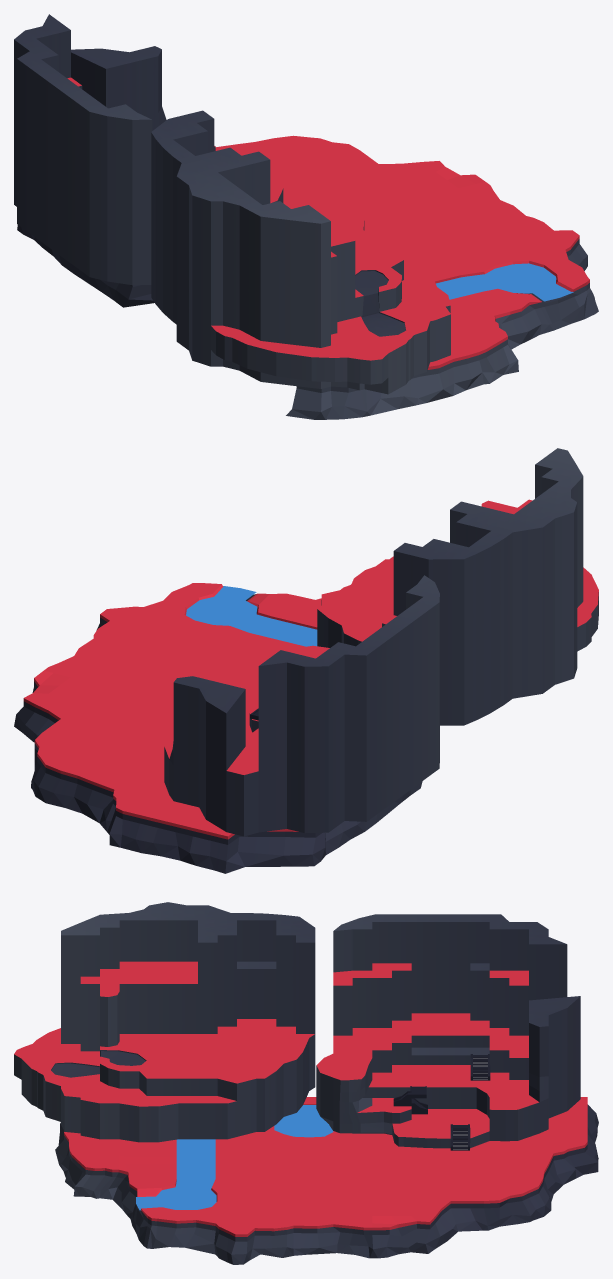
File: Terrain New TEST.fbx
3 renders of one model, top to bottom at view 1: azimuth 30°, elevation 25°; view 2: azimuth 150°, elevation 25°; view 3: azimuth 270°, elevation 25°, orthographic. The views are drawn at different scales.
Parts seen in each view (by area): view 1: Plane.016, Plane.010, Plane.011, Plane.022; view 2: Plane.011, Plane.010, Plane.016, Plane.022; view 3: Plane.016, Plane.011, Plane.010, Plane.022, Plane.023.
Part boxes in pixels (box(x1,y1,x2,y2)): Plane.016: box(151, 110, 450, 394); Plane.010: box(17, 135, 598, 419); Plane.011: box(14, 14, 283, 285); Plane.022: box(436, 263, 573, 301); Plane.011: box(164, 575, 439, 836); Plane.010: box(14, 583, 422, 873); Plane.016: box(317, 448, 598, 725); Plane.022: box(186, 586, 317, 646); Plane.016: box(14, 902, 315, 1142); Plane.011: box(316, 914, 580, 1148); Plane.010: box(55, 1097, 598, 1264); Plane.022: box(136, 1139, 216, 1210); Plane.023: box(274, 1105, 333, 1137).
Size of the model in its own units: 16786 by 7539 by 22454.
